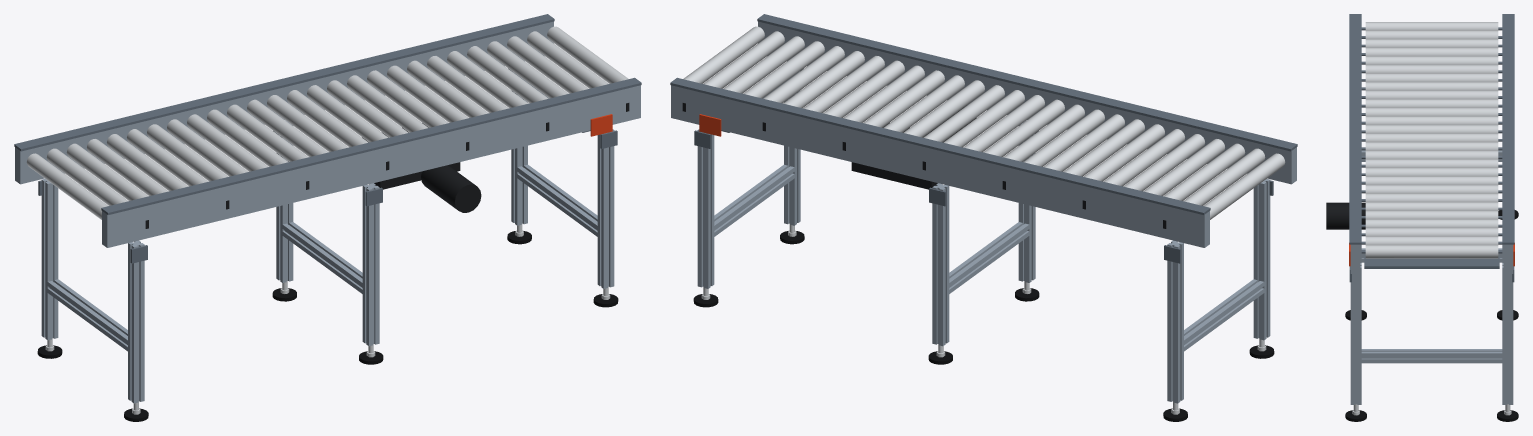
The model's file is roller_conveyor_2m.glb.
The picture shows the model from 3 angles, left to right: view 1: azimuth 30°, elevation 25°; view 2: azimuth 150°, elevation 25°; view 3: azimuth 270°, elevation 25°; orthographic projection. The views are drawn at different scales.
Visible parts, largest first — view 1: Conveyor_Frame_alu_anodised, Conveyor_Frame_alu_dark, Conveyor_Frame_black_paint, Conveyor_Frame_rubber, Roller_01_steel_bright, Roller_02_steel_bright, Roller_27_steel_bright, Roller_15_steel_bright, Roller_18_steel_bright, Roller_20_steel_bright, Roller_23_steel_bright, Roller_25_steel_bright (+19 smaller); view 2: Conveyor_Frame_alu_anodised, Conveyor_Frame_alu_dark, Conveyor_Frame_rubber, Roller_01_steel_bright, Roller_02_steel_bright, Roller_27_steel_bright, Roller_15_steel_bright, Roller_18_steel_bright, Roller_20_steel_bright, Roller_23_steel_bright, Roller_25_steel_bright, Roller_06_steel_bright (+19 smaller); view 3: Conveyor_Frame_alu_anodised, Conveyor_Frame_alu_dark, Roller_27_steel_bright, Stopper_Mount_alu_dark, Roller_02_steel_bright, Roller_04_steel_bright, Roller_09_steel_bright, Roller_14_steel_bright, Roller_16_steel_bright, Roller_21_steel_bright, Roller_23_steel_bright, Roller_01_steel_bright (+20 smaller).
Part boxes in pixels (x1=…): Conveyor_Frame_alu_anodised: x1=15, y1=21, x2=640, y2=403; Conveyor_Frame_alu_dark: x1=14, y1=14, x2=641, y2=263; Conveyor_Frame_black_paint: x1=145, y1=103, x2=629, y2=228; Conveyor_Frame_rubber: x1=37, y1=231, x2=618, y2=421; Roller_01_steel_bright: x1=26, y1=153, x2=107, y2=219; Roller_02_steel_bright: x1=46, y1=148, x2=128, y2=205; Roller_27_steel_bright: x1=547, y1=26, x2=628, y2=83; Roller_15_steel_bright: x1=307, y1=85, x2=388, y2=142; Roller_18_steel_bright: x1=367, y1=70, x2=448, y2=127; Roller_20_steel_bright: x1=407, y1=60, x2=488, y2=117; Roller_23_steel_bright: x1=467, y1=46, x2=548, y2=103; Roller_25_steel_bright: x1=507, y1=36, x2=588, y2=93; Conveyor_Frame_alu_anodised: x1=671, y1=21, x2=1296, y2=403; Conveyor_Frame_alu_dark: x1=670, y1=14, x2=1297, y2=263; Conveyor_Frame_rubber: x1=693, y1=231, x2=1274, y2=421; Roller_01_steel_bright: x1=1204, y1=153, x2=1285, y2=219; Roller_02_steel_bright: x1=1183, y1=148, x2=1265, y2=205; Roller_27_steel_bright: x1=683, y1=26, x2=764, y2=83; Roller_15_steel_bright: x1=923, y1=85, x2=1004, y2=142; Roller_18_steel_bright: x1=863, y1=70, x2=944, y2=127; Roller_20_steel_bright: x1=823, y1=60, x2=904, y2=117; Roller_23_steel_bright: x1=763, y1=46, x2=844, y2=103; Roller_25_steel_bright: x1=723, y1=36, x2=804, y2=93; Roller_06_steel_bright: x1=1103, y1=129, x2=1184, y2=186; Conveyor_Frame_alu_anodised: x1=1350, y1=150, x2=1513, y2=404; Conveyor_Frame_alu_dark: x1=1349, y1=14, x2=1514, y2=282; Roller_27_steel_bright: x1=1365, y1=245, x2=1498, y2=258; Stopper_Mount_alu_dark: x1=1364, y1=257, x2=1499, y2=268; Roller_02_steel_bright: x1=1365, y1=30, x2=1498, y2=39; Roller_04_steel_bright: x1=1365, y1=47, x2=1498, y2=56; Roller_09_steel_bright: x1=1365, y1=90, x2=1498, y2=99; Roller_14_steel_bright: x1=1365, y1=133, x2=1498, y2=142; Roller_16_steel_bright: x1=1365, y1=150, x2=1498, y2=159; Roller_21_steel_bright: x1=1365, y1=193, x2=1498, y2=202; Roller_23_steel_bright: x1=1365, y1=210, x2=1498, y2=219; Roller_01_steel_bright: x1=1365, y1=22, x2=1498, y2=30.
Bounding box in the file's own units: 2.01 × 0.768 × 0.71.
